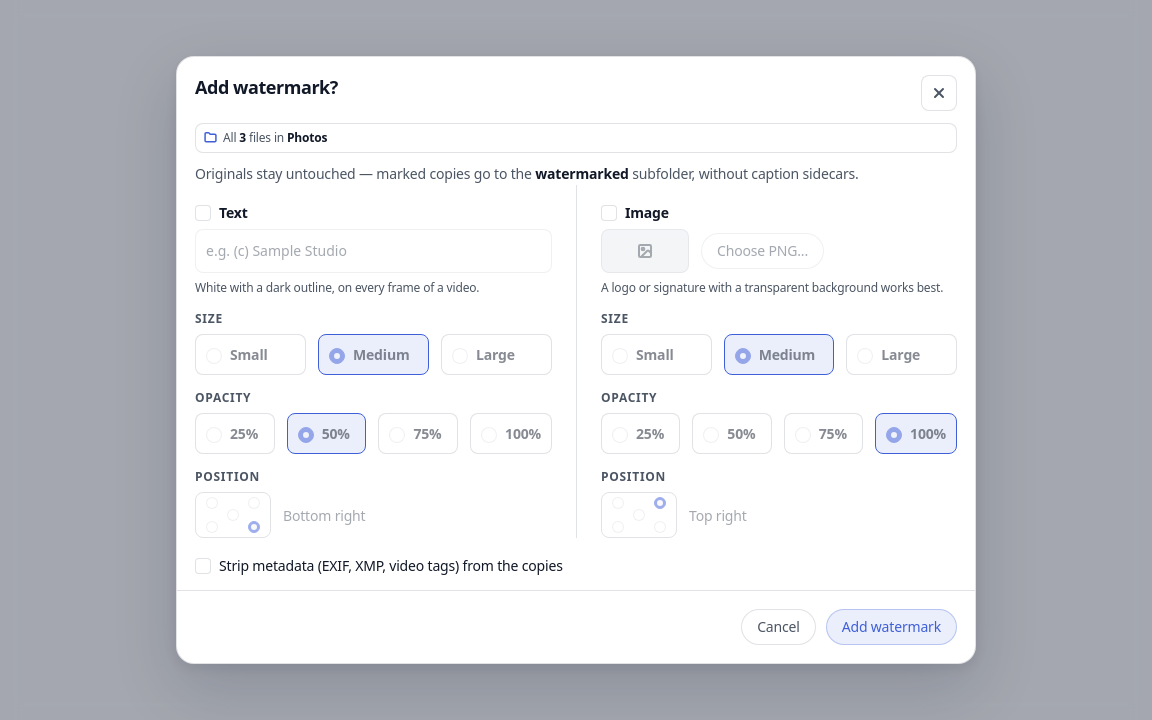
Test: WatermarkDialog › needs at least one mark
Click the button "Add watermark" at (891, 627), box x1=826 y1=609 x2=957 y2=645
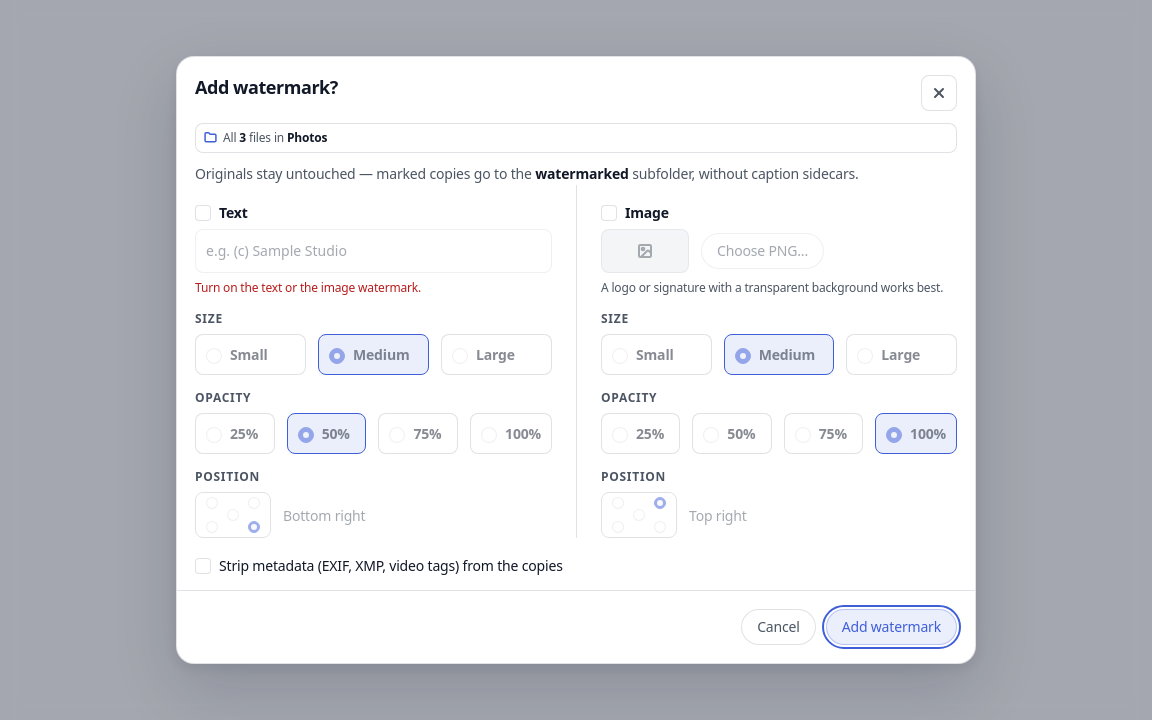
Expected: the message reads "Turn on the text or the image watermark.", x1=195 y1=279 x2=421 y2=296
